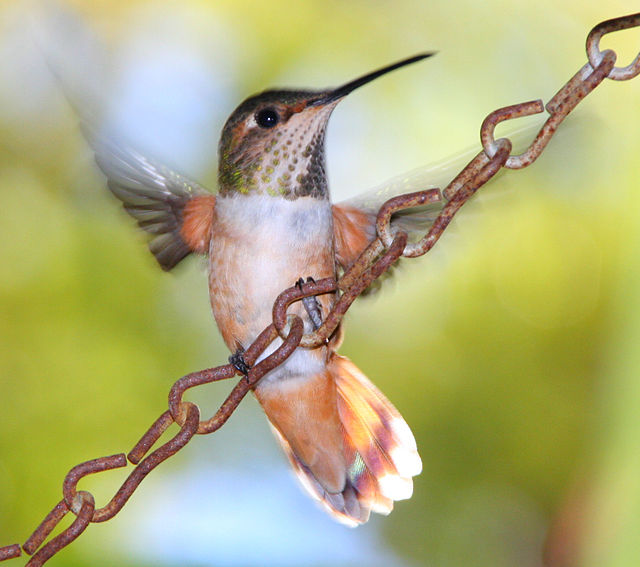selasphorus sasin: (100, 53, 436, 523)
